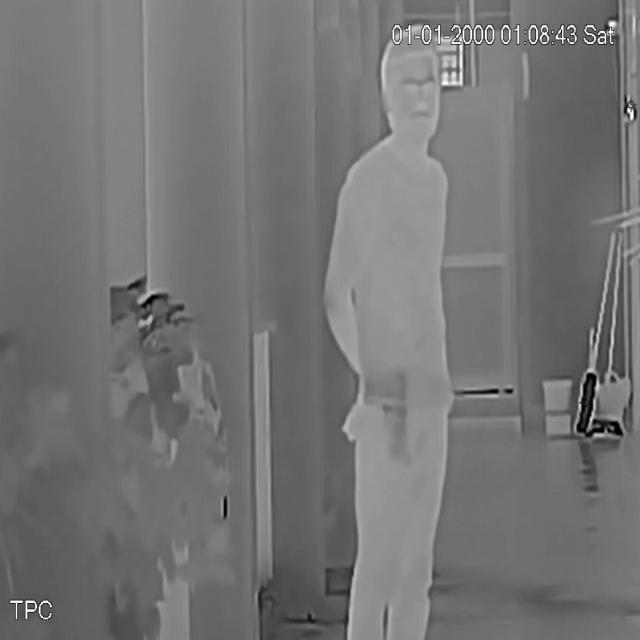Weapon: (354, 356, 428, 476)
